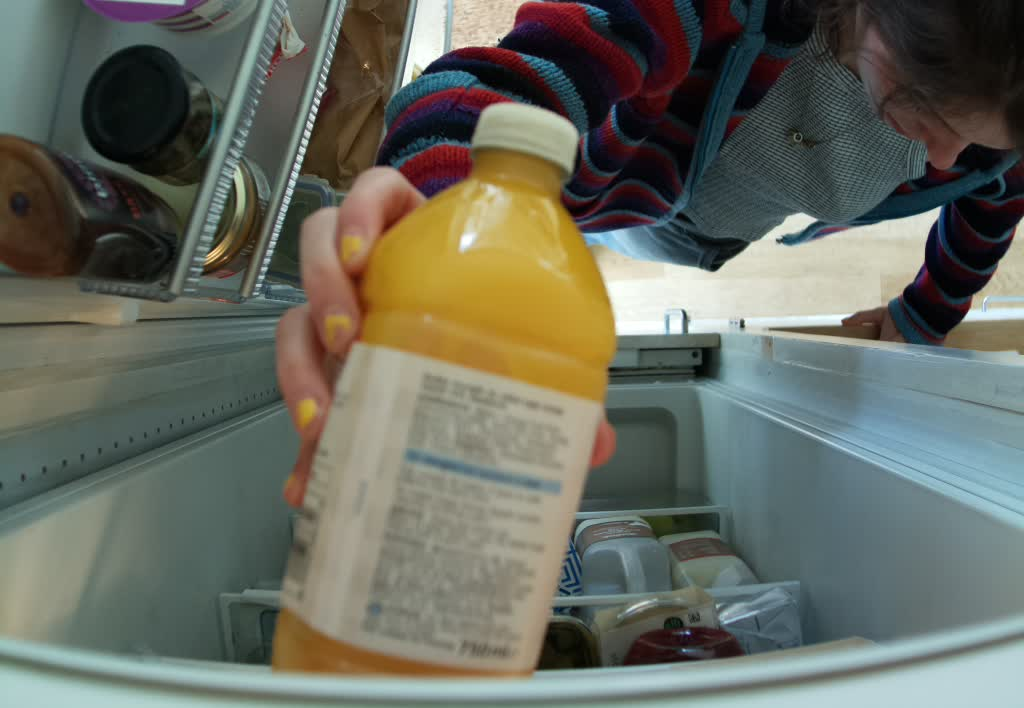juice: (261, 105, 622, 671)
